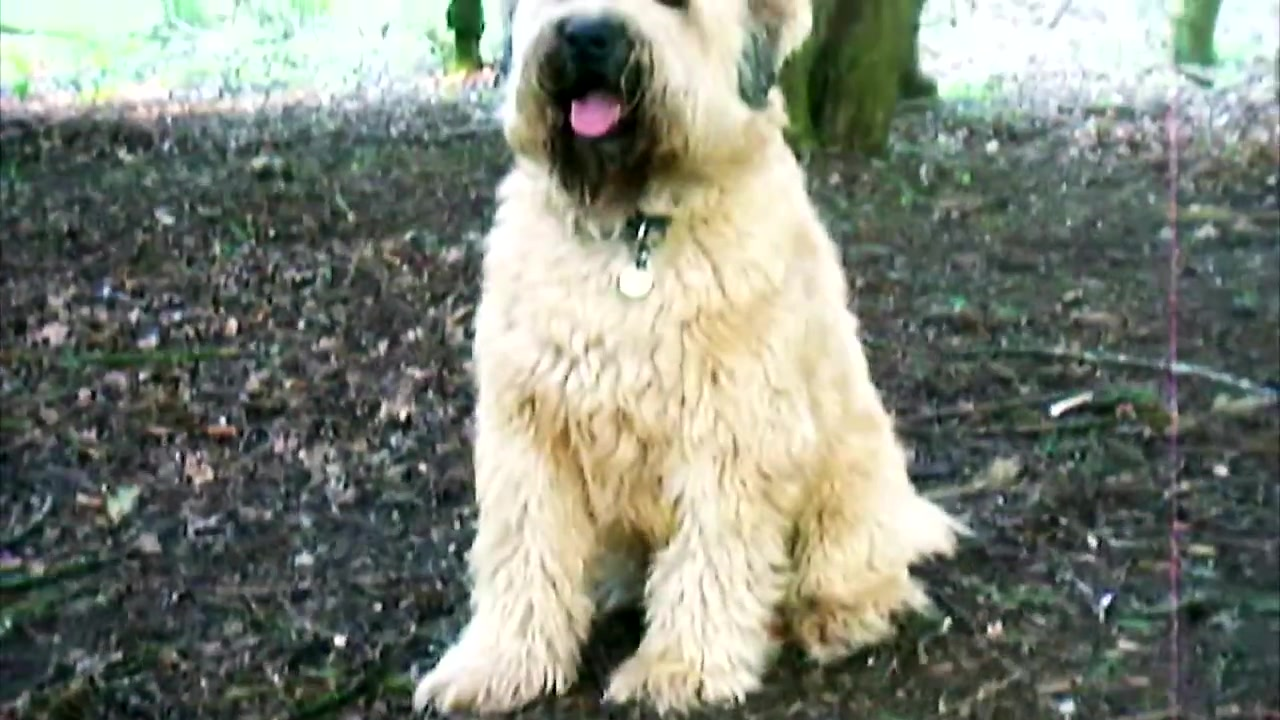dog: (413, 1, 966, 718)
